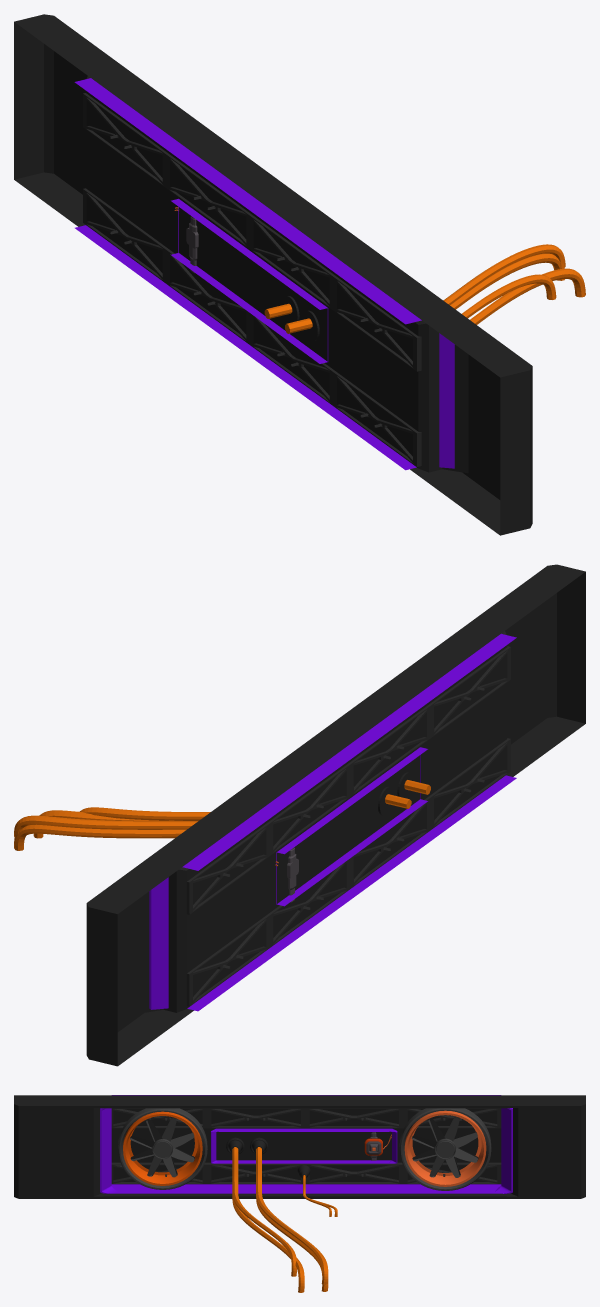
File: 0004_factory_fanmachine.glb
3 renders of one model, top to bottom at view 1: azimuth 30°, elevation 25°; view 2: azimuth 150°, elevation 25°; view 3: azimuth 270°, elevation 25°, orthographic. The views are drawn at different scales.
Parts seen in each view (by area): view 1: ベジエ円.001; view 2: ベジエ円.001; view 3: ベジエ円.001.
Boxes of the visible parts, x1,y1,x2,y2 form: ベジエ円.001: [14, 14, 585, 535]; ベジエ円.001: [14, 564, 585, 1066]; ベジエ円.001: [14, 1095, 585, 1292].
Bounding box in the file's own units: 31.02 × 14.72 × 73.9.
